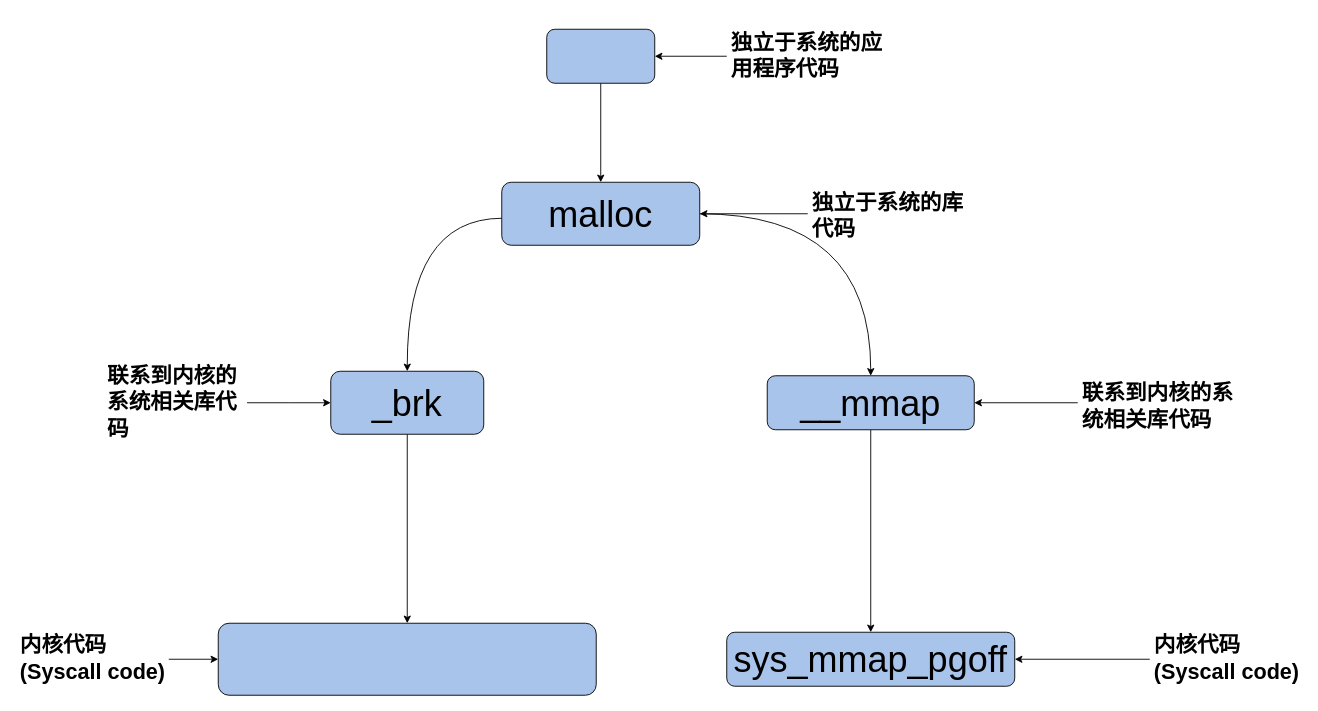
The diagram is 1318 pixels wide and 711 high, and some of its shapes have lost their labels. The shapes that lost their labels are listed below. From the top down, each one's box as (x1, y1, x2, y2) in pixels, then its label:
(546, 28, 655, 83): 应用
(217, 622, 596, 695): sys_brk
